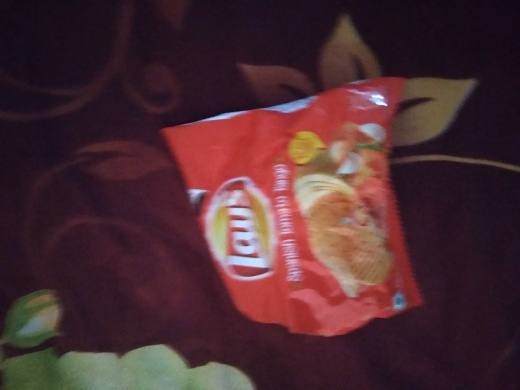lays: (147, 92, 429, 341)
